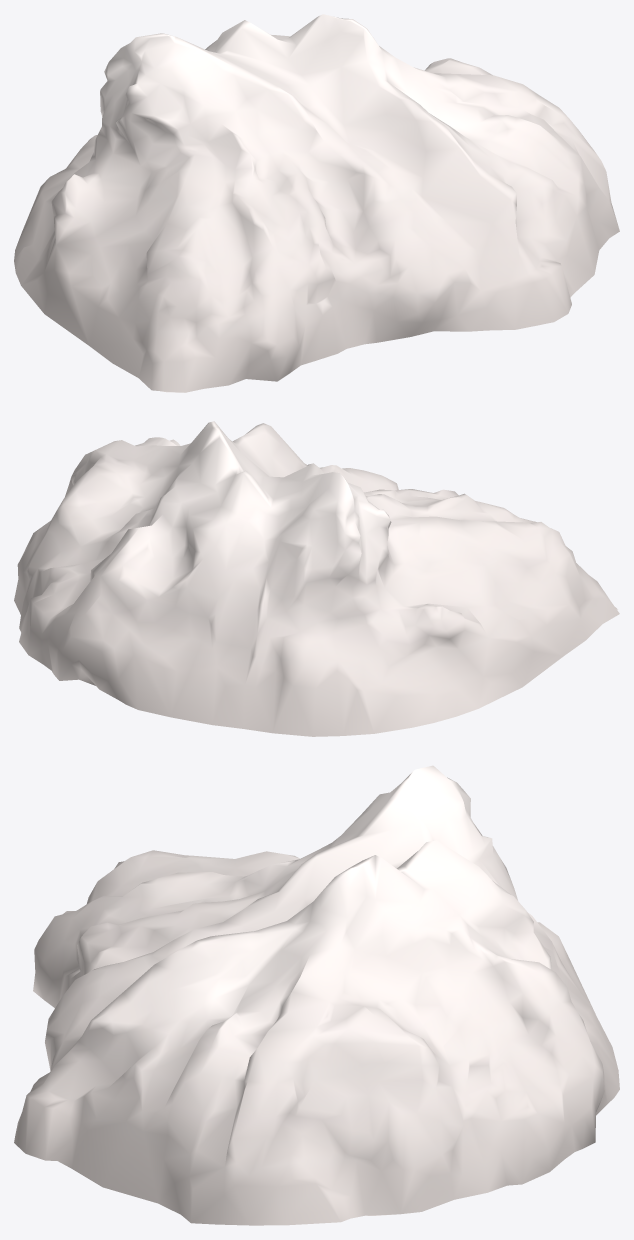
The model's file is Mountain_11.glb.
3 renders of one model, top to bottom at view 1: azimuth 30°, elevation 25°; view 2: azimuth 150°, elevation 25°; view 3: azimuth 270°, elevation 25°, orthographic. The views are drawn at different scales.
Visible parts, largest first — view 1: Mountain_11; view 2: Mountain_11; view 3: Mountain_11.
Part boxes in pixels (bbox=[...]): Mountain_11: bbox=[14, 14, 619, 392]; Mountain_11: bbox=[14, 421, 619, 736]; Mountain_11: bbox=[14, 765, 619, 1225].
Size of the model in its own units: 19.41 by 7.66 by 16.86.
Materials: 1 (1 with a texture image).
